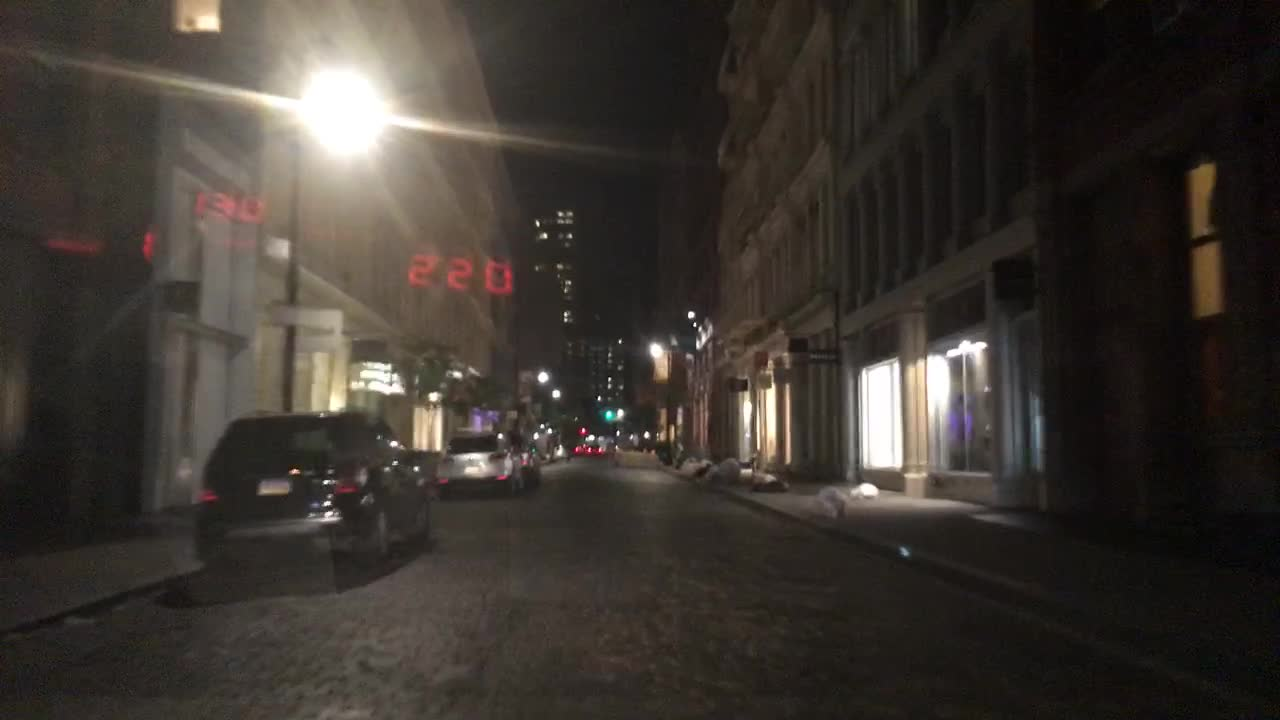car: (194, 408, 437, 586), (434, 429, 520, 496), (514, 437, 545, 484), (586, 441, 601, 453), (572, 441, 583, 453)
traffic light: (603, 407, 613, 421)
